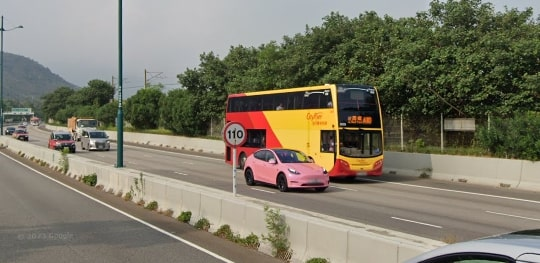Speed Limit: (221, 121, 246, 148)
